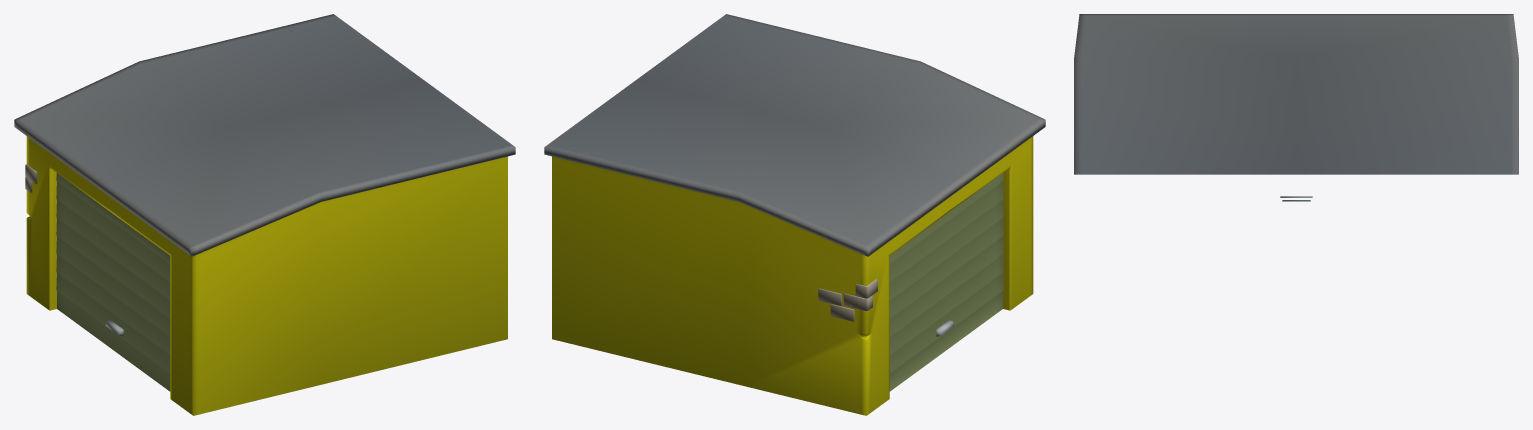
File: Garage04.glb
3 renders of one model, left to right at view 1: azimuth 30°, elevation 25°; view 2: azimuth 150°, elevation 25°; view 3: azimuth 270°, elevation 25°, orthographic. The views are drawn at different scales.
Visible parts, largest first — view 1: Garage04; view 2: Garage04; view 3: Garage04.
Boxes of the visible parts, x1=… form: Garage04: x1=14, y1=14, x2=515, y2=415; Garage04: x1=544, y1=14, x2=1045, y2=415; Garage04: x1=1074, y1=14, x2=1518, y2=201.
Size of the model in its own units: 7.84 by 4.6 by 7.69.
Materials: 2 (1 with a texture image).
